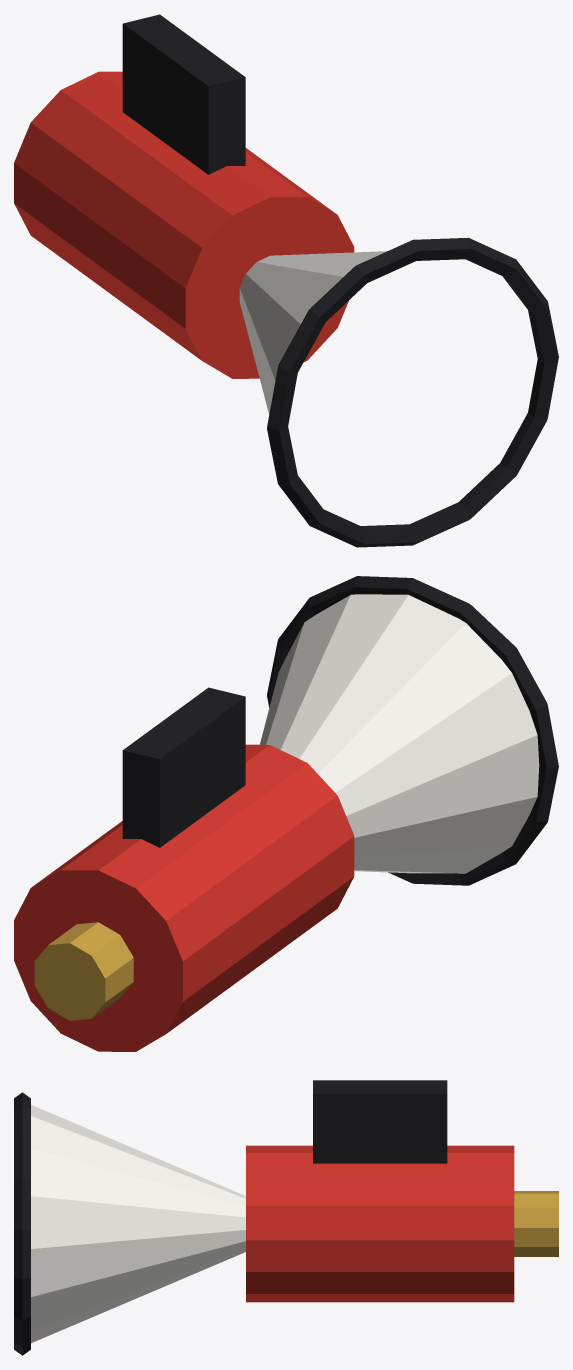
Rendered from fog_horn.glb.
3 renders of one model, top to bottom at view 1: azimuth 30°, elevation 25°; view 2: azimuth 150°, elevation 25°; view 3: azimuth 270°, elevation 25°, orthographic. The views are drawn at different scales.
Parts seen in each view (by area): view 1: can_horn_can, trumpet_horn_grip, grip_horn_grip, trumpet_horn_trumpet; view 2: trumpet_horn_trumpet, can_horn_can, grip_horn_grip, trumpet_horn_grip, can_horn_brass; view 3: can_horn_can, trumpet_horn_trumpet, grip_horn_grip, trumpet_horn_grip, can_horn_brass.
Boxes of the visible parts, x1=… form: can_horn_can: x1=14, y1=71, x2=354, y2=378; trumpet_horn_grip: x1=267, y1=237, x2=558, y2=547; grip_horn_grip: x1=122, y1=14, x2=245, y2=174; trumpet_horn_trumpet: x1=239, y1=251, x2=387, y2=414; trumpet_horn_trumpet: x1=260, y1=594, x2=539, y2=873; can_horn_can: x1=14, y1=744, x2=354, y2=1051; grip_horn_grip: x1=122, y1=687, x2=245, y2=847; trumpet_horn_grip: x1=267, y1=576, x2=558, y2=885; can_horn_brass: x1=34, y1=922, x2=133, y2=1020; can_horn_can: x1=246, y1=1145, x2=514, y2=1302; trumpet_horn_trumpet: x1=31, y1=1105, x2=245, y2=1342; grip_horn_grip: x1=313, y1=1080, x2=447, y2=1163; trumpet_horn_grip: x1=14, y1=1092, x2=30, y2=1355; can_horn_brass: x1=514, y1=1191, x2=558, y2=1256.
Bounding box in the file's own units: 0.236 × 0.253 × 0.4876.
